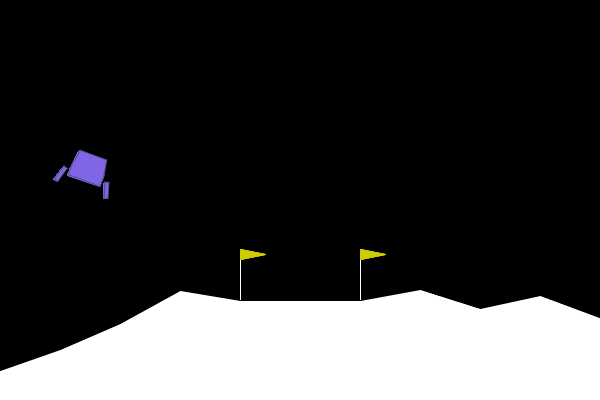lander: (52, 143, 122, 201)
